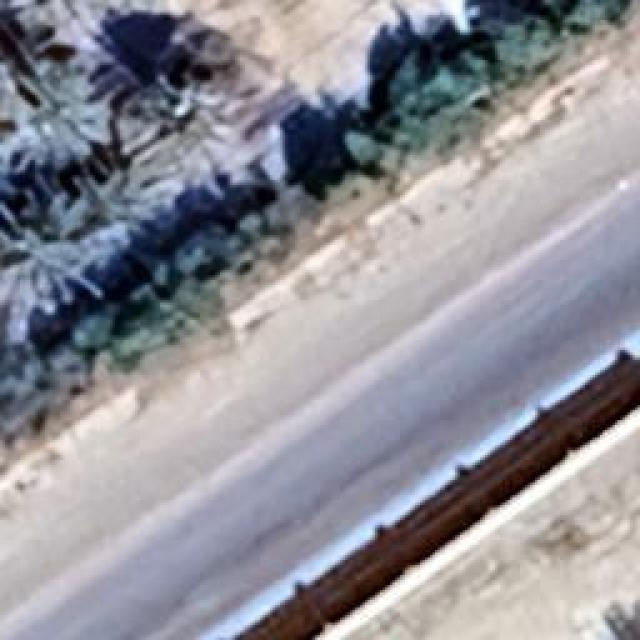PalmTree: (125, 75, 258, 203), (0, 180, 105, 315), (0, 60, 110, 170), (5, 0, 135, 52), (600, 600, 638, 638)
